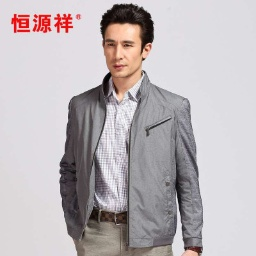face: (99, 2, 156, 77)
